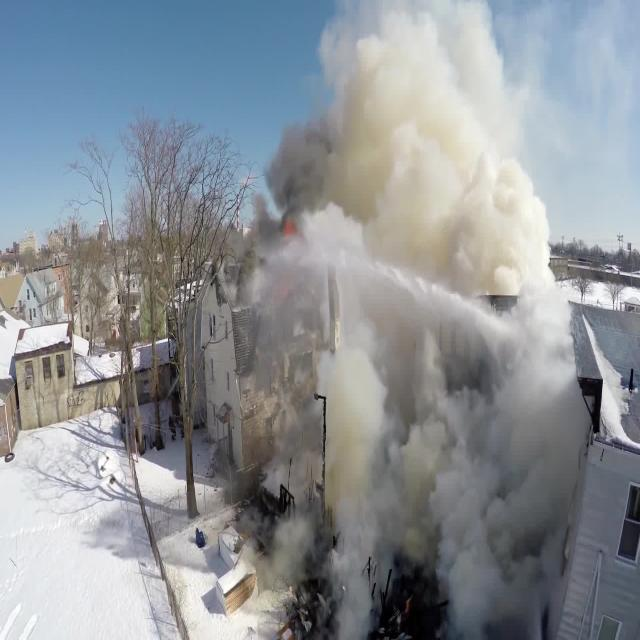Smoke: (258, 15, 589, 606)
